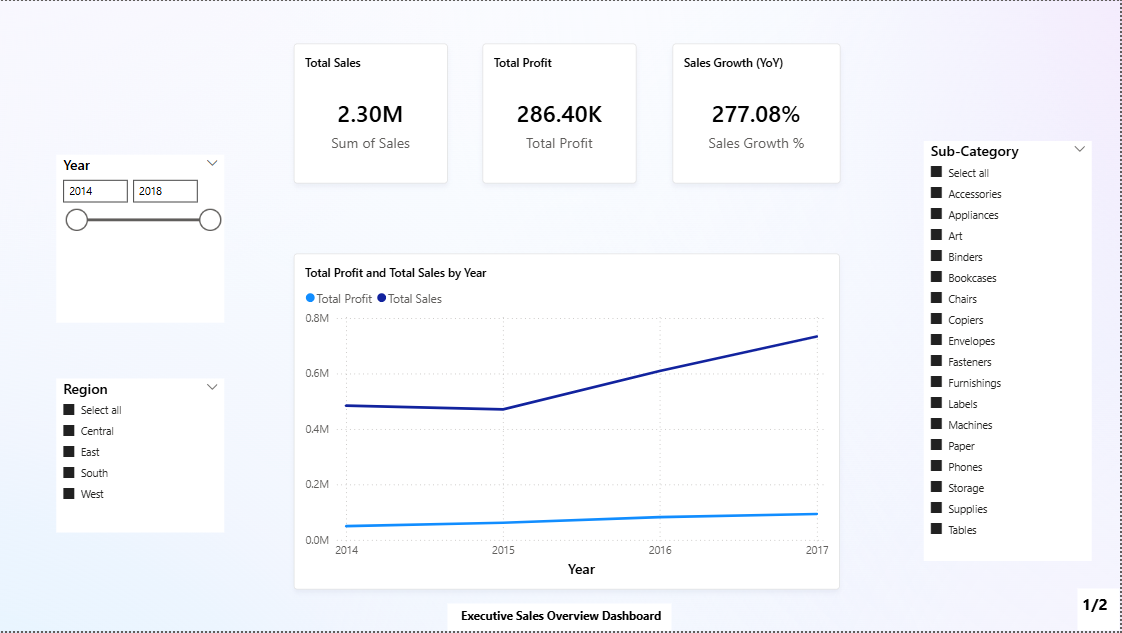

The dashboard page shown, as its layout file describes it:
{"tool":"powerbi","page":{"name":"Overview","canvas":[1280,720],"ordinal":0},"visuals":[{"type":"card","title":"Total Sales","fields":{"Values":["Sum(Sample - Superstore.Sales)"]},"box":[336,48,176,160],"z":0},{"type":"card","title":"Total Profit","fields":{"Values":["Sample - Superstore.Total Profit"]},"box":[552,48,176,160],"z":1000},{"type":"card","title":"Sales Growth (YoY)","fields":{"Values":["Sample - Superstore.Sales Growth %"]},"box":[768,48,192,160],"z":2000},{"type":"lineChart","fields":{"Category":["Sample - Superstore.Order Date.Variation.Date Hierarchy.Year","Sample - Superstore.Order Date.Variation.Date Hierarchy.Quarter","Sample - Superstore.Order Date.Variation.Date Hierarchy.Month","Sample - Superstore.Order Date.Variation.Date Hierarchy.Day"],"Y":["Sample - Superstore.Total Profit","Sample - Superstore.Total Sales"]},"box":[336,288,624,384],"z":3000},{"type":"slicer","fields":{"Values":["Sample - Superstore.Year"]},"box":[64,176,192,192],"z":4000},{"type":"slicer","fields":{"Values":["Sample - Superstore.Region"]},"box":[64,432,192,176],"z":5000},{"type":"slicer","fields":{"Values":["Sample - Superstore.Sub-Category"]},"box":[1056,160,192,480],"z":6000},{"type":"textbox","box":[512,688,256,32],"z":7000},{"type":"textbox","box":[1232,672,48,48],"z":8000}]}

Visuals, with their boxes in screenshot pixels (x1, y1, x2, y2), scaled from the page's 1280x720 canvas onto the 1122x633 screenshot:
"Total Sales" card: box=[295, 42, 449, 183]
"Total Profit" card: box=[484, 42, 638, 183]
"Sales Growth (YoY)" card: box=[673, 42, 842, 183]
lineChart - Sample - Superstore.Order Date.Variation.Date Hierarchy.Year x Sample - Superstore.Order Date.Variation.Date Hierarchy.Quarter: box=[295, 253, 842, 591]
slicer - Sample - Superstore.Year: box=[56, 155, 224, 324]
slicer - Sample - Superstore.Region: box=[56, 380, 224, 535]
slicer - Sample - Superstore.Sub-Category: box=[926, 141, 1094, 563]
textbox: box=[449, 605, 673, 632]
textbox: box=[1080, 591, 1121, 632]
